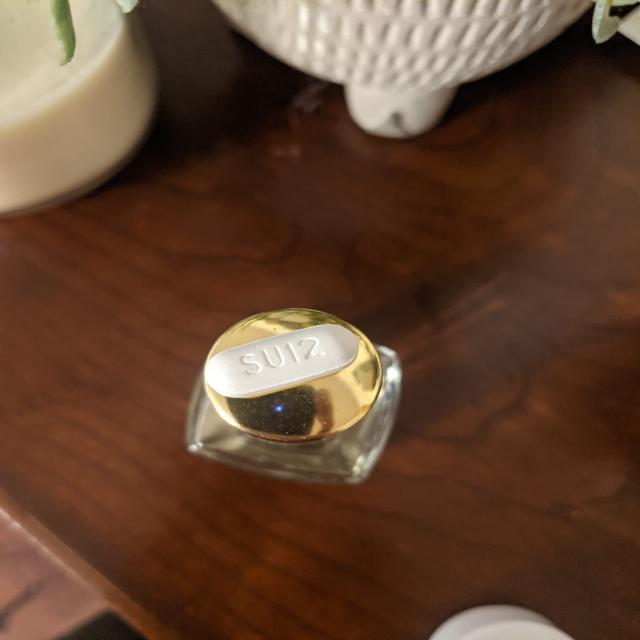non-organic waste: (203, 322, 361, 398)
